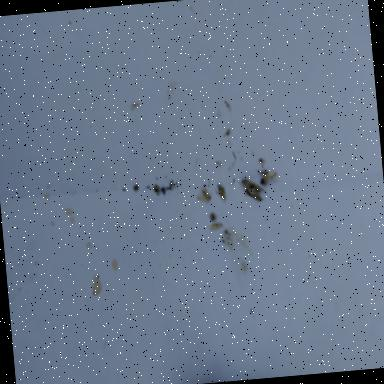pbw: (241, 177, 269, 204), (258, 170, 278, 186), (216, 184, 226, 202)
